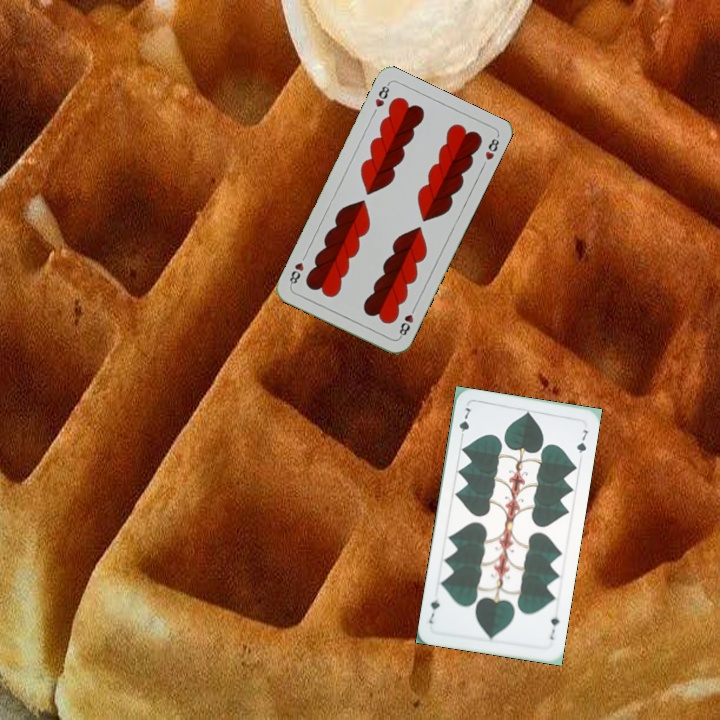G7: (455, 403, 473, 443), (546, 613, 562, 642)
H8: (395, 302, 418, 340), (371, 80, 392, 110)
